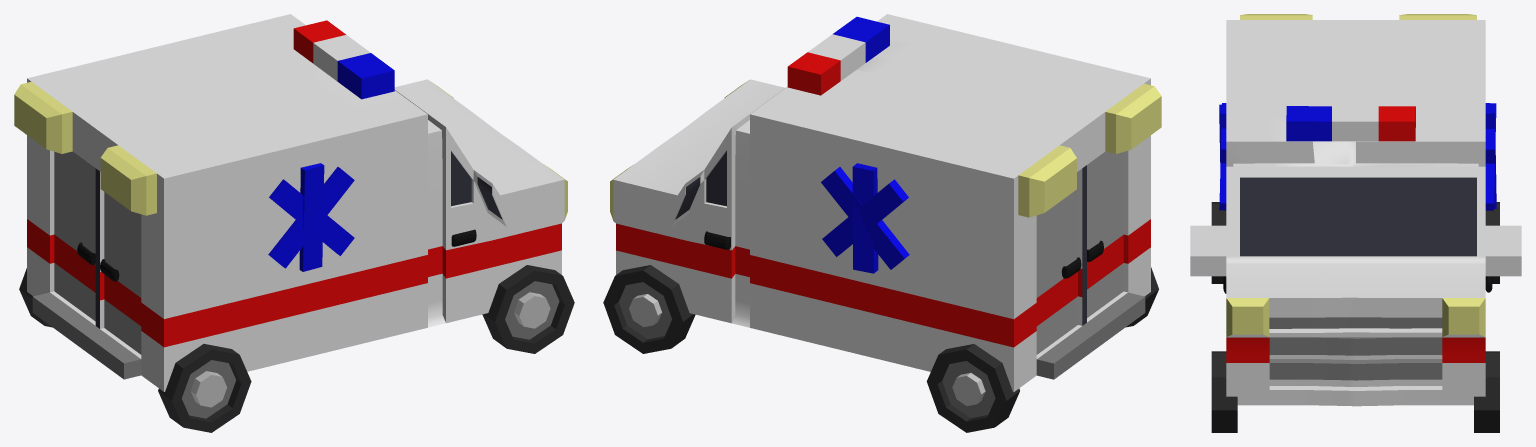
Rendered from ambulance_1.fbx.
The picture shows the model from 3 angles, left to right: view 1: azimuth 30°, elevation 25°; view 2: azimuth 150°, elevation 25°; view 3: azimuth 270°, elevation 25°; orthographic projection. The views are drawn at different scales.
Parts seen in each view (by area): view 1: body, wheel14, wheel13, pCube14, lights; view 2: body, pCube13, wheel15, wheel12, lights; view 3: body, lights, wheel13, wheel12, pCube13, pCube14, wheel14, wheel15.
Part boxes in pixels (x1=…): body: x1=14, y1=14, x2=567, y2=391; wheel14: x1=158, y1=344, x2=251, y2=432; wheel13: x1=482, y1=265, x2=574, y2=353; pCube14: x1=268, y1=163, x2=354, y2=271; lights: x1=293, y1=20, x2=394, y2=99; body: x1=610, y1=14, x2=1161, y2=392; pCube13: x1=821, y1=163, x2=909, y2=273; wheel15: x1=926, y1=344, x2=1019, y2=432; wheel12: x1=603, y1=265, x2=695, y2=353; lights: x1=787, y1=16, x2=889, y2=95; body: x1=1190, y1=14, x2=1521, y2=406; lights: x1=1286, y1=106, x2=1415, y2=141; wheel13: x1=1211, y1=351, x2=1237, y2=432; wheel12: x1=1474, y1=351, x2=1499, y2=432; pCube13: x1=1485, y1=103, x2=1496, y2=210; pCube14: x1=1219, y1=103, x2=1226, y2=210; wheel14: x1=1211, y1=202, x2=1226, y2=283; wheel15: x1=1485, y1=202, x2=1499, y2=283.
Size of the model in its own units: 9.26 by 5.76 by 6.56.
